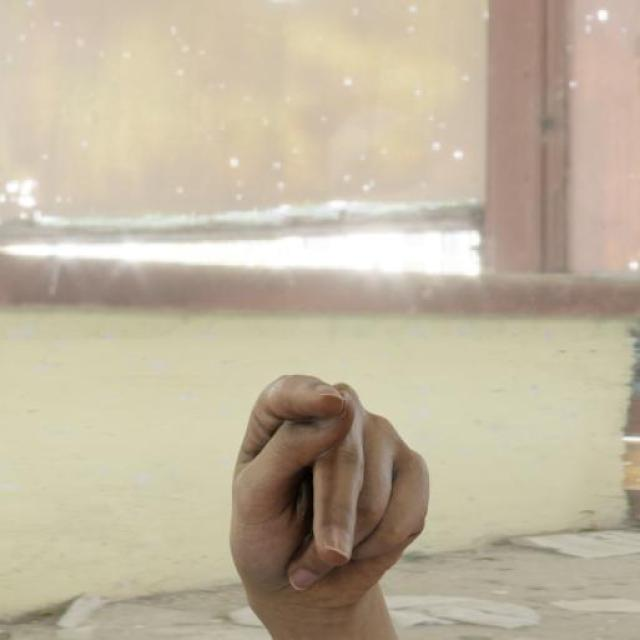P: (223, 370, 432, 615)
